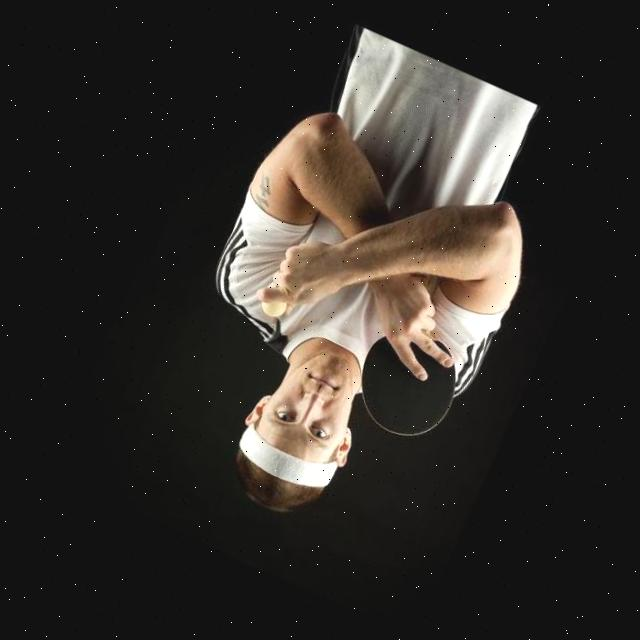ping-pong-ball: (256, 287, 292, 324)
